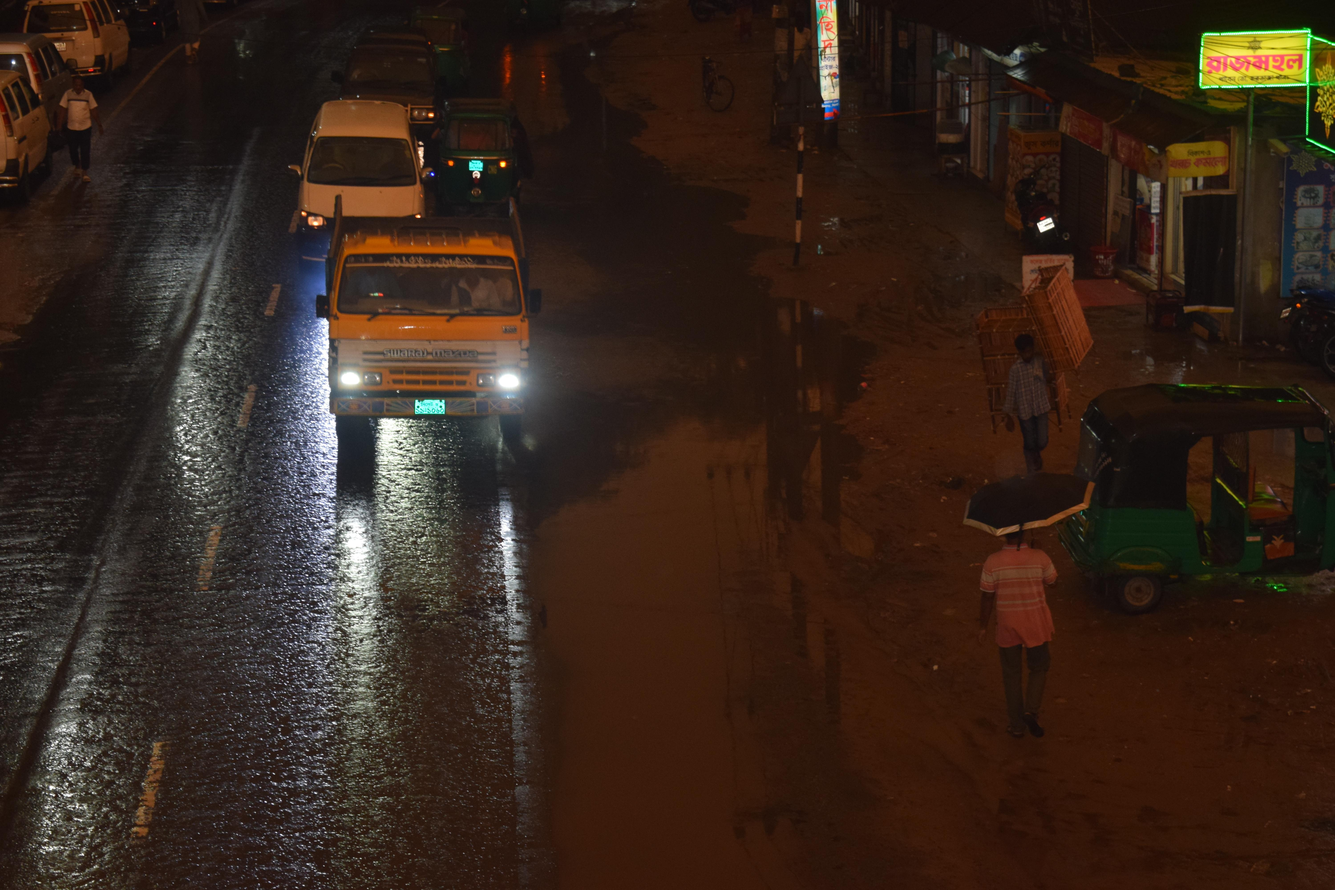Car: (263, 74, 451, 274), (0, 0, 156, 100), (0, 53, 65, 216)
Truck: (285, 170, 580, 503)
